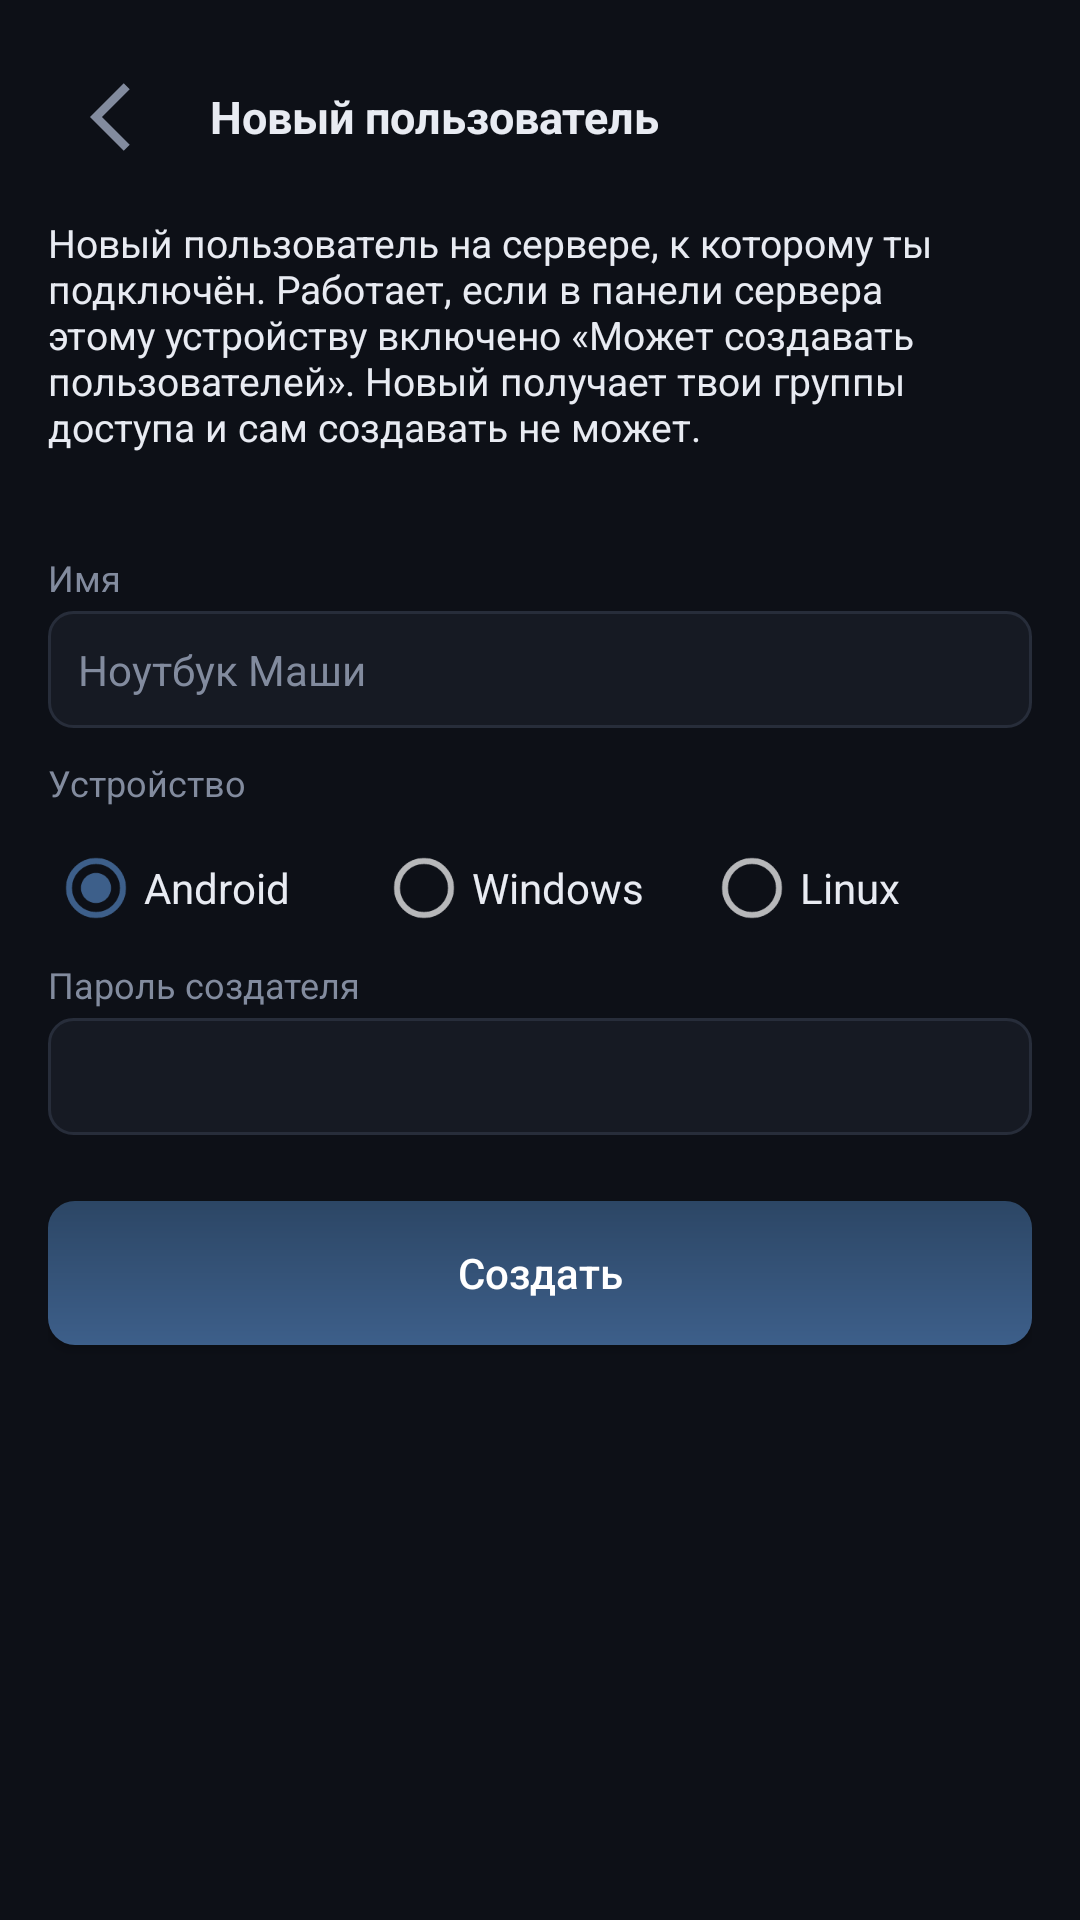

Where icons sit on this 1080 x 1920 app screen, as (x1, y1, x2, y2):
Назад: (90, 83, 130, 151)
